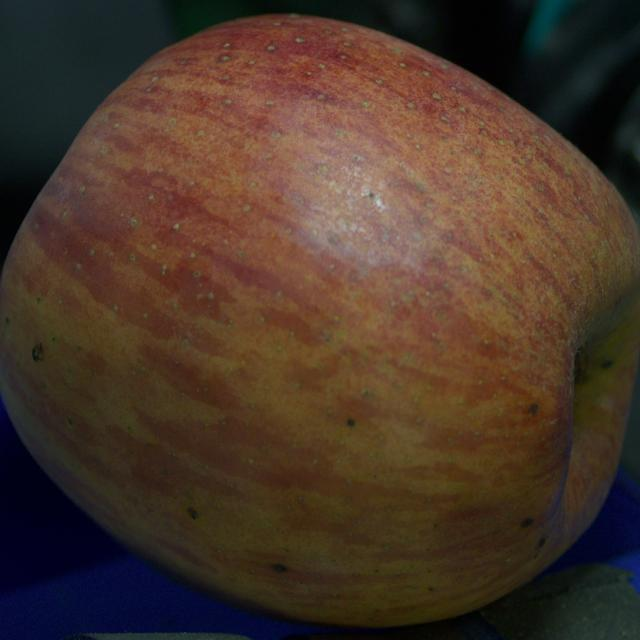apple: (0, 14, 639, 627)
pest: (32, 343, 42, 360), (601, 359, 614, 368), (188, 508, 198, 519), (521, 518, 532, 527), (529, 404, 538, 414), (537, 538, 546, 548), (274, 565, 286, 572), (348, 419, 354, 426)
